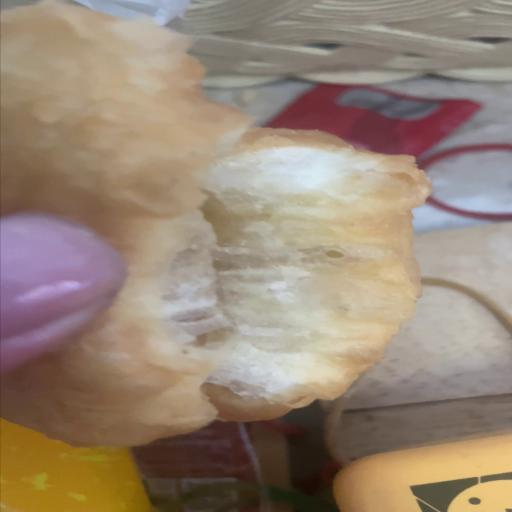street_golden_defect: (0, 17, 424, 450)
